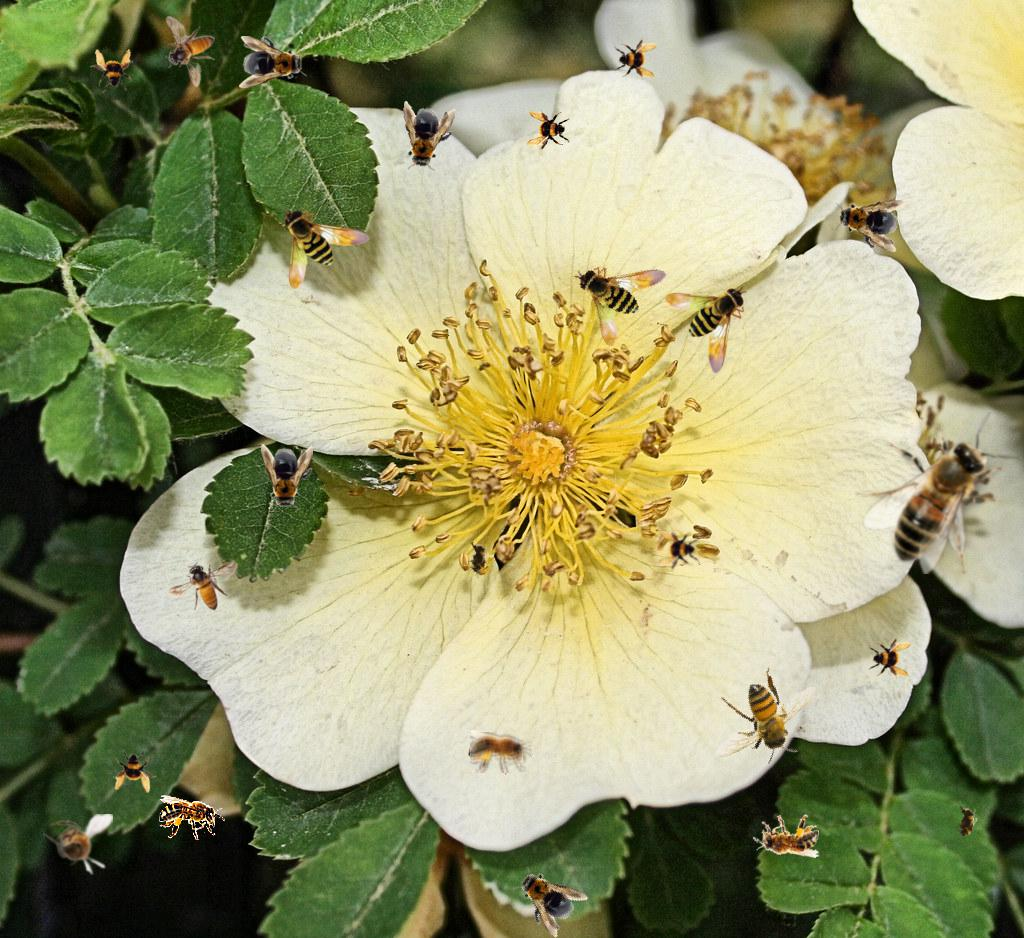Bee: (855, 412, 1022, 574), (693, 648, 830, 792), (573, 243, 683, 351), (665, 286, 747, 374), (282, 207, 370, 289), (503, 856, 589, 938), (830, 191, 906, 253), (396, 101, 456, 175), (43, 814, 113, 875), (751, 812, 821, 863), (167, 561, 238, 611), (165, 16, 215, 87), (239, 36, 307, 88), (261, 444, 313, 512), (159, 795, 225, 840), (468, 730, 534, 775), (88, 46, 136, 94), (868, 635, 912, 679), (614, 36, 658, 80), (656, 529, 700, 573), (526, 109, 570, 153), (113, 749, 157, 793), (951, 801, 981, 845), (464, 537, 492, 581)
